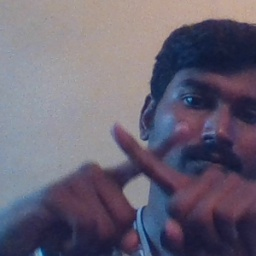X: (75, 108, 225, 242)
